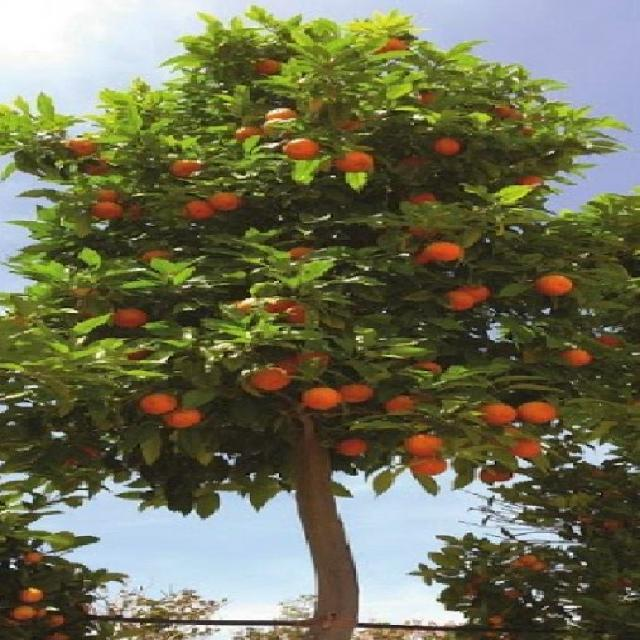Jeruk Sudah Matang: (156, 400, 211, 436), (243, 361, 300, 394), (134, 390, 187, 420), (419, 237, 472, 266), (418, 134, 474, 160), (280, 134, 328, 163), (297, 382, 346, 410), (260, 100, 304, 130), (326, 435, 377, 460), (402, 431, 449, 458), (338, 380, 382, 408), (399, 456, 448, 481), (104, 305, 156, 328), (329, 150, 378, 174), (88, 194, 130, 222), (518, 400, 562, 426), (480, 398, 520, 426), (538, 270, 579, 296), (162, 158, 210, 178), (438, 289, 476, 314), (182, 199, 221, 221), (205, 190, 243, 210), (563, 347, 595, 368)
